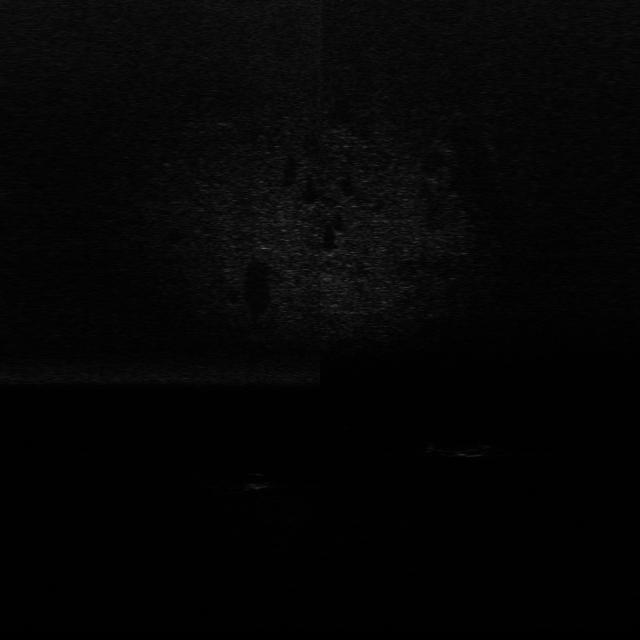ball: (240, 468, 276, 493)
human body: (429, 437, 503, 460)
